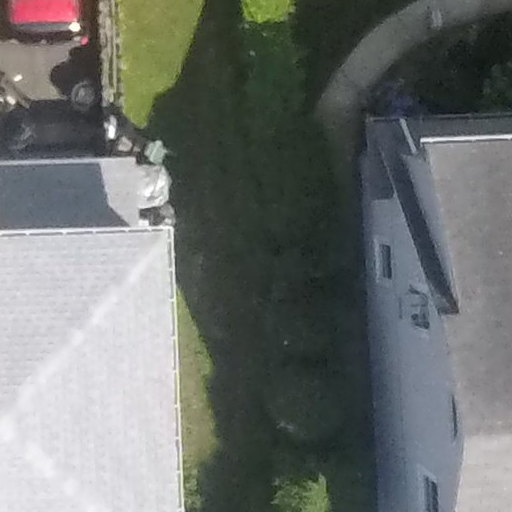container: (67, 81, 102, 112), (139, 139, 174, 164)
